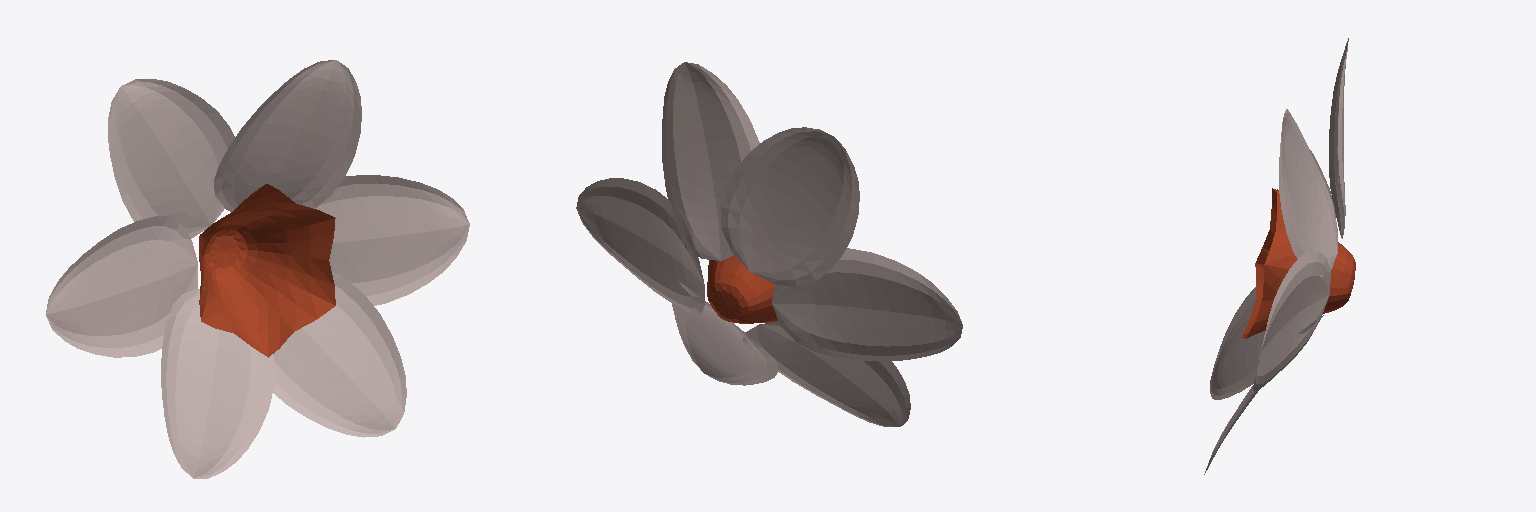
3 renders of one model, left to right at view 1: azimuth 30°, elevation 25°; view 2: azimuth 150°, elevation 25°; view 3: azimuth 270°, elevation 25°, orthographic.
Visible parts, largest first — view 1: Plane.001; view 2: Plane.001; view 3: Plane.001.
Boxes of the visible parts, <box> form: Plane.001: <box>46,60,469,478</box>; Plane.001: <box>576,62,962,426</box>; Plane.001: <box>1204,38,1355,474</box>.
Bounding box in the file's own units: 6.2 × 5.17 × 2.01.
Materials: 1 (1 with a texture image).